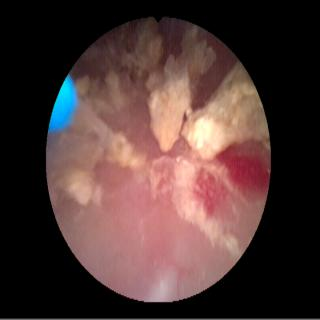fiber: (51, 78, 75, 132)
stone: (124, 30, 216, 152), (181, 63, 269, 158), (107, 131, 147, 172), (59, 169, 99, 204), (104, 69, 118, 94), (75, 77, 90, 96)
